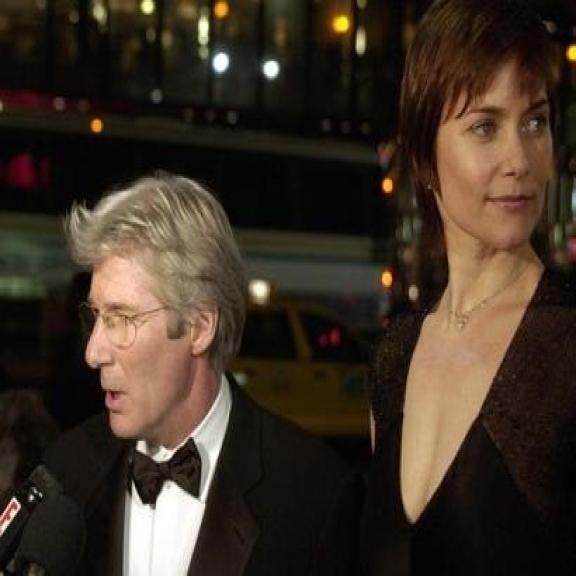face: (78, 180, 234, 442), (399, 12, 557, 253)
